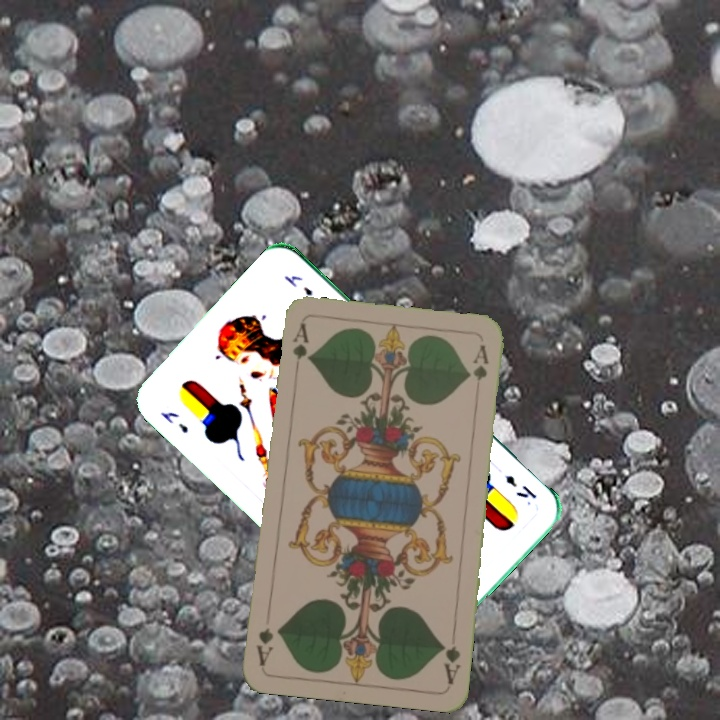EK: (501, 471, 539, 501), (157, 407, 191, 436)
GA: (289, 320, 311, 379), (437, 639, 463, 687)
